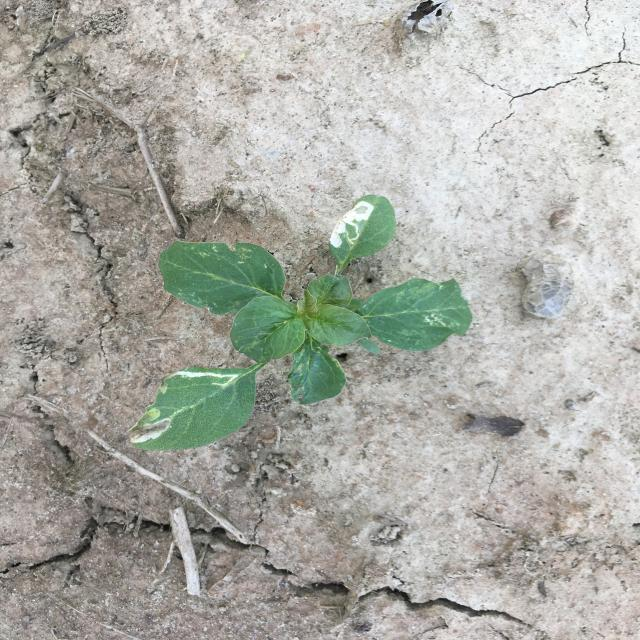PalmerAmaranth: (131, 194, 473, 450)
